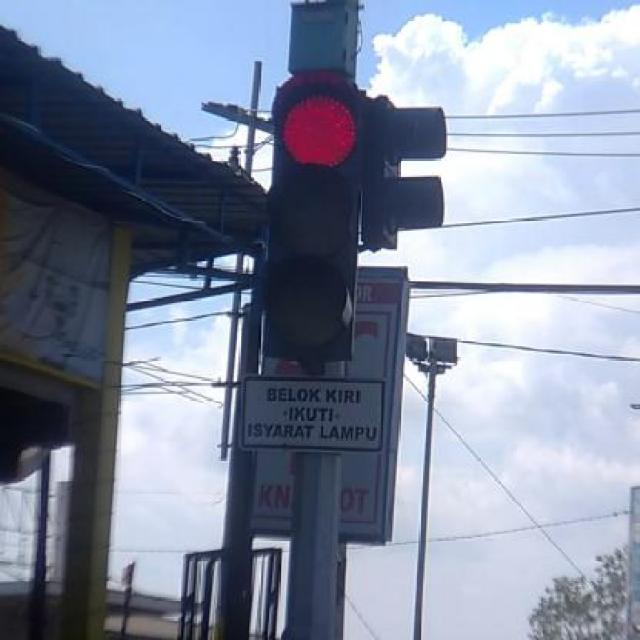traffic light: (259, 83, 368, 363)
